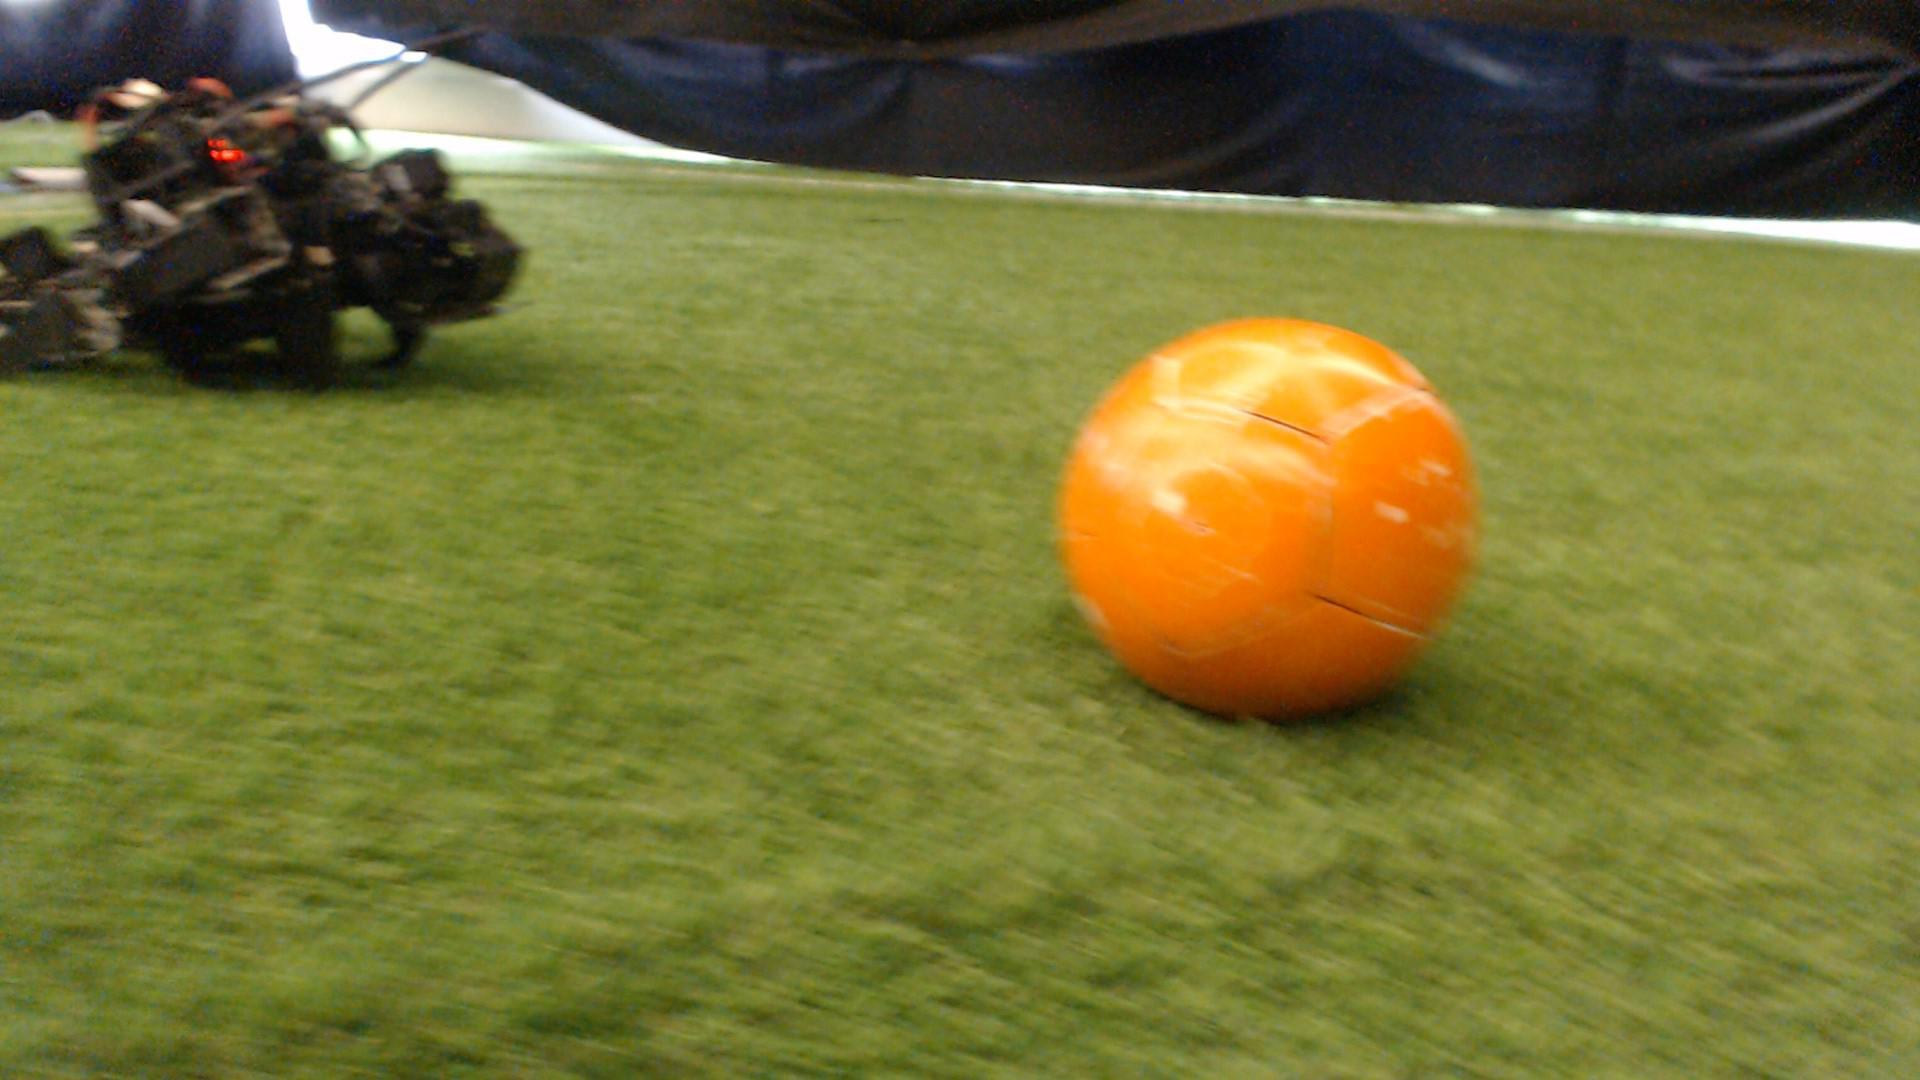bola: (1025, 269, 1527, 767)
